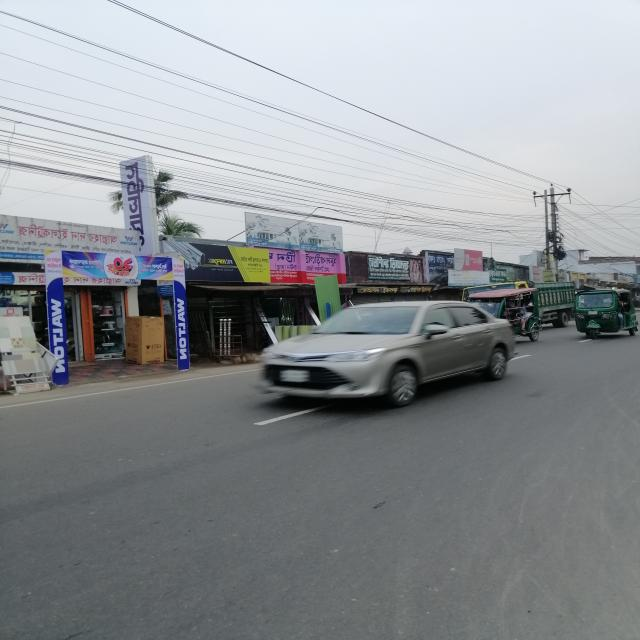CNG: (570, 291, 637, 344)
Car: (247, 292, 520, 411)
